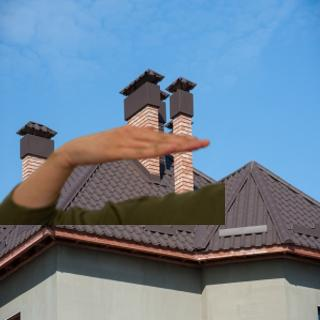WAIT: (61, 120, 213, 169)
